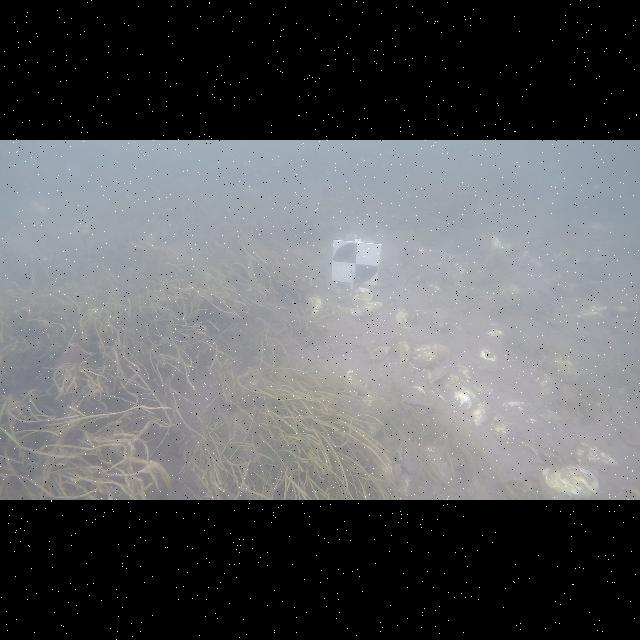Oyster-Closed: (542, 466, 599, 498), (411, 344, 449, 368), (351, 288, 381, 309), (305, 292, 325, 319), (476, 349, 498, 371), (394, 335, 410, 365), (346, 369, 368, 390), (421, 368, 448, 384), (439, 372, 460, 391), (471, 404, 488, 426), (368, 346, 390, 361), (454, 391, 472, 409), (395, 306, 410, 326), (486, 322, 504, 338), (456, 364, 472, 380), (472, 382, 492, 394), (362, 391, 375, 406)
Oyster-Open: (401, 383, 430, 411), (349, 301, 382, 321), (396, 438, 412, 474), (409, 310, 419, 326)
